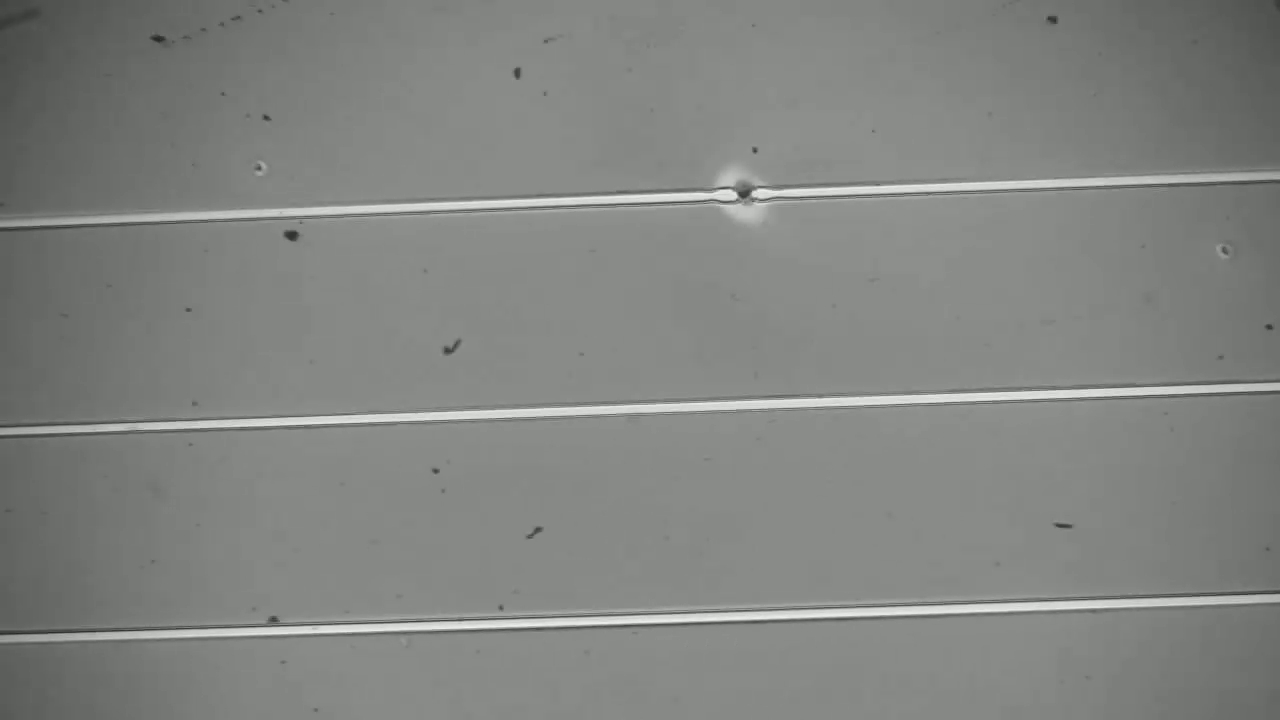stains_enbedded: (712, 172, 771, 214)
